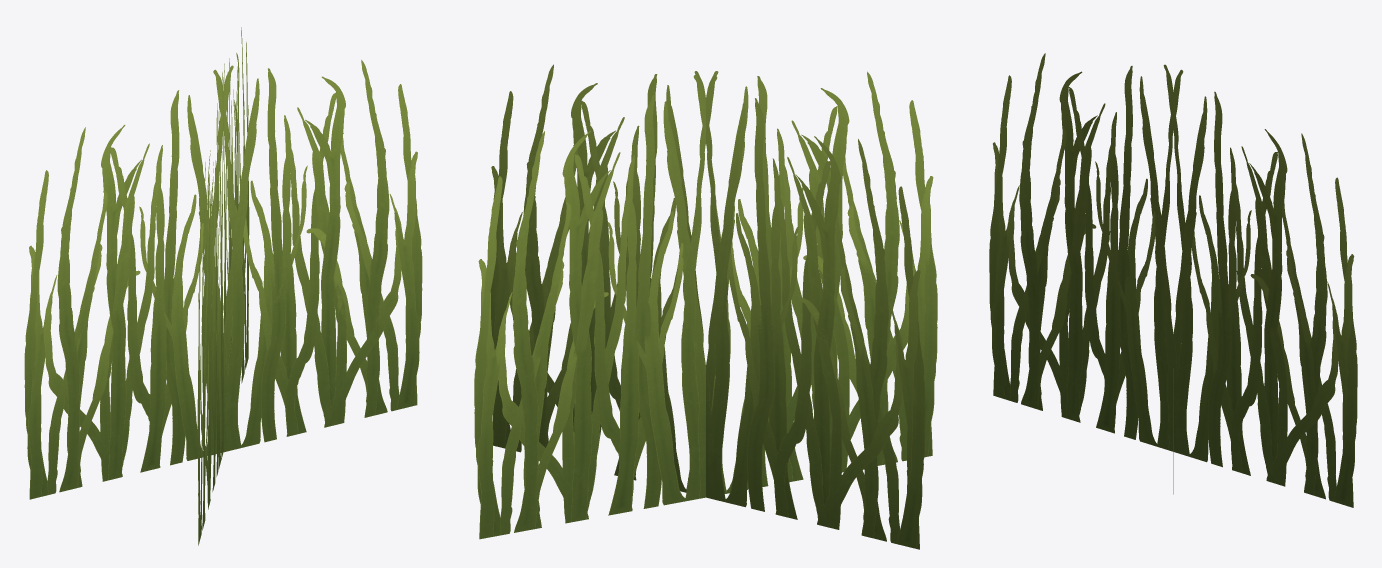
The model's file is grass.fbx.
The picture shows the model from 3 angles, left to right: view 1: azimuth 30°, elevation 25°; view 2: azimuth 150°, elevation 25°; view 3: azimuth 270°, elevation 25°; orthographic projection. The views are drawn at different scales.
Parts seen in each view (by area): view 1: grass_2_0; view 2: grass_2_0; view 3: grass_2_0.
Part boxes in pixels (x1,y1,x2,y2): grass_2_0: [24, 27, 422, 545]; grass_2_0: [474, 64, 937, 549]; grass_2_0: [989, 53, 1357, 507].
Bounding box in the file's own units: 0.575 × 0.575 × 0.4626.
